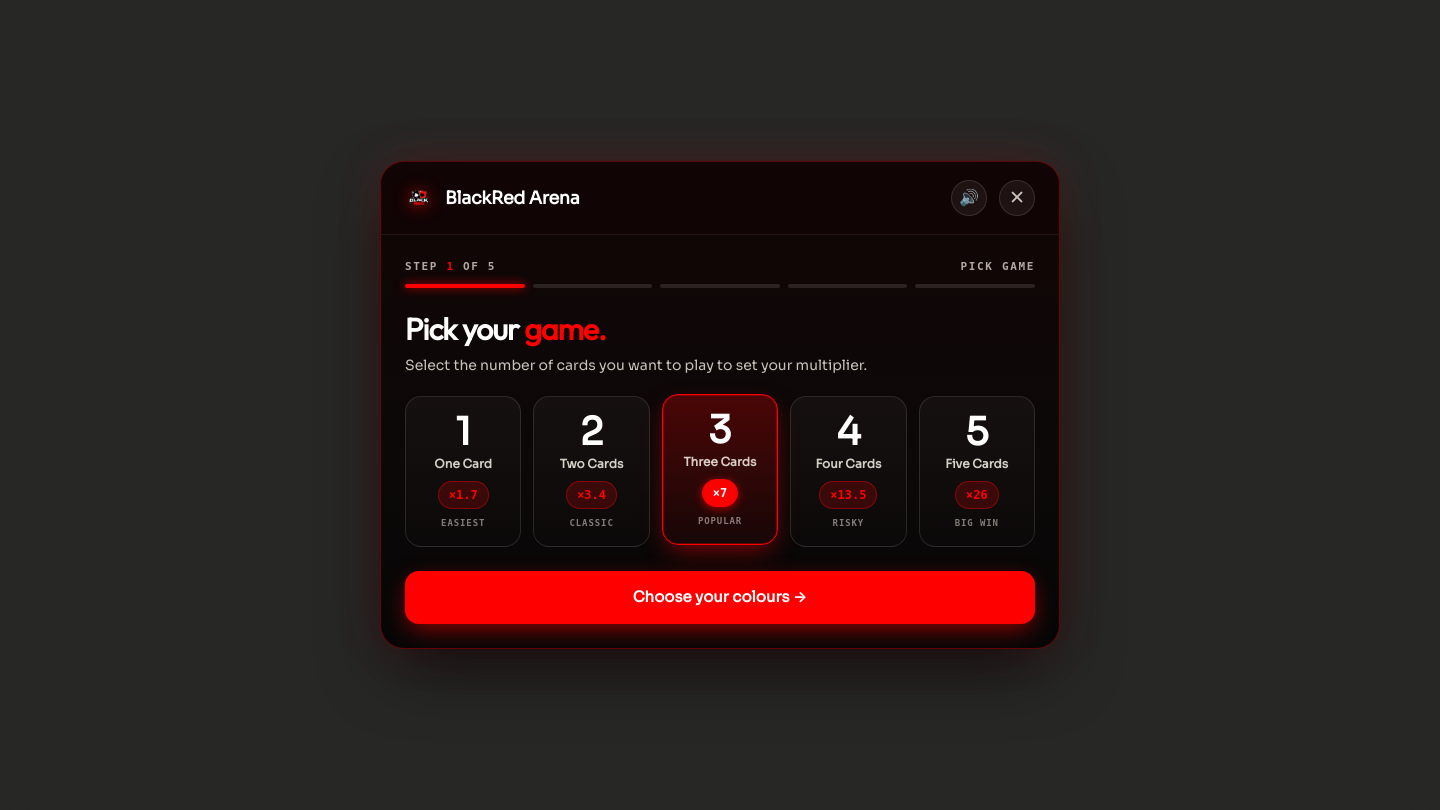
Test: BlackRedPlayModal › places a real ticket at Start the round and shows the settled result, never a client-computed one
The image size is (1440, 810).
Click the button "Choose your colours →" at (720, 597), box [405,571,1035,624]
(page scrolled)
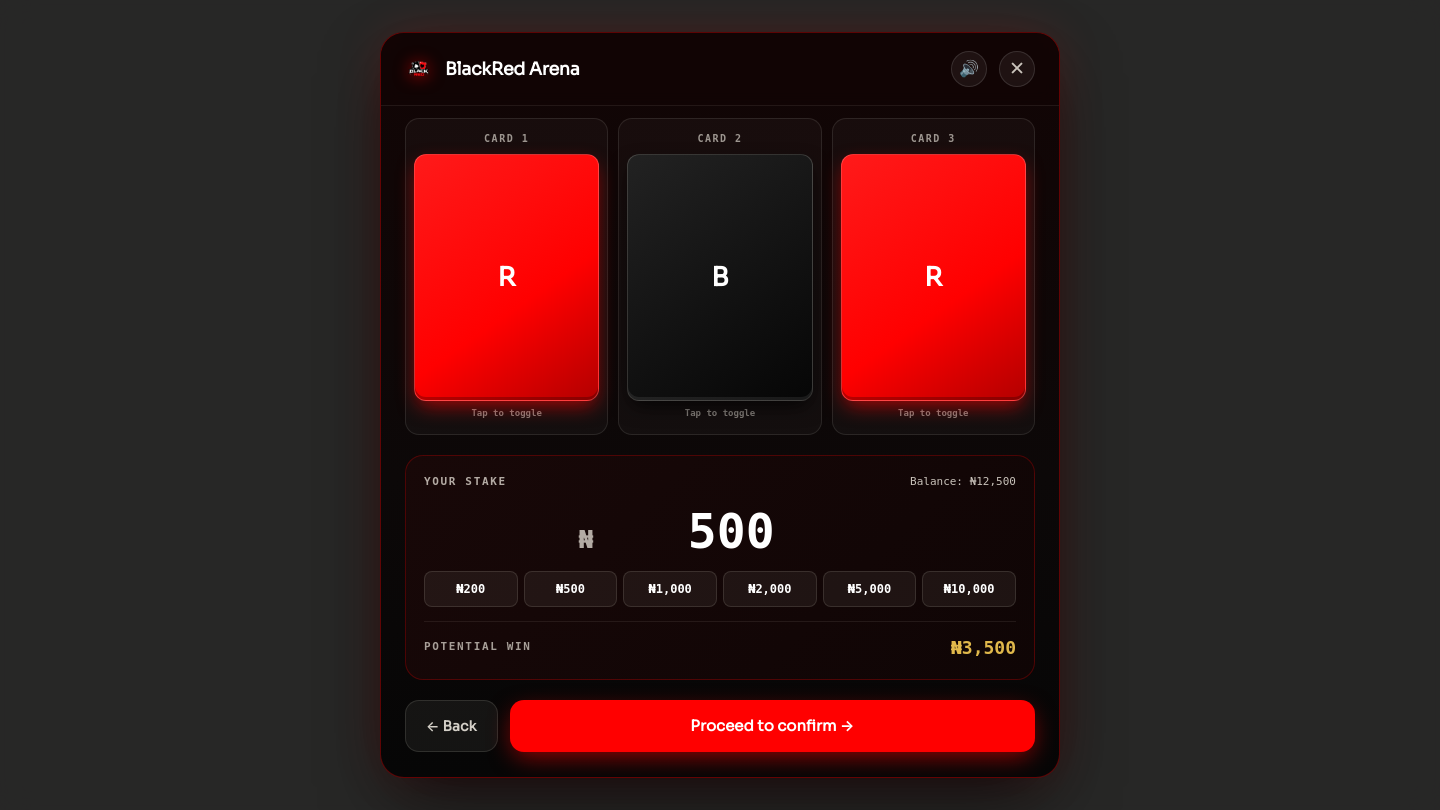
Click the button "Proceed to confirm →" at (772, 726), box [510,700,1035,752]
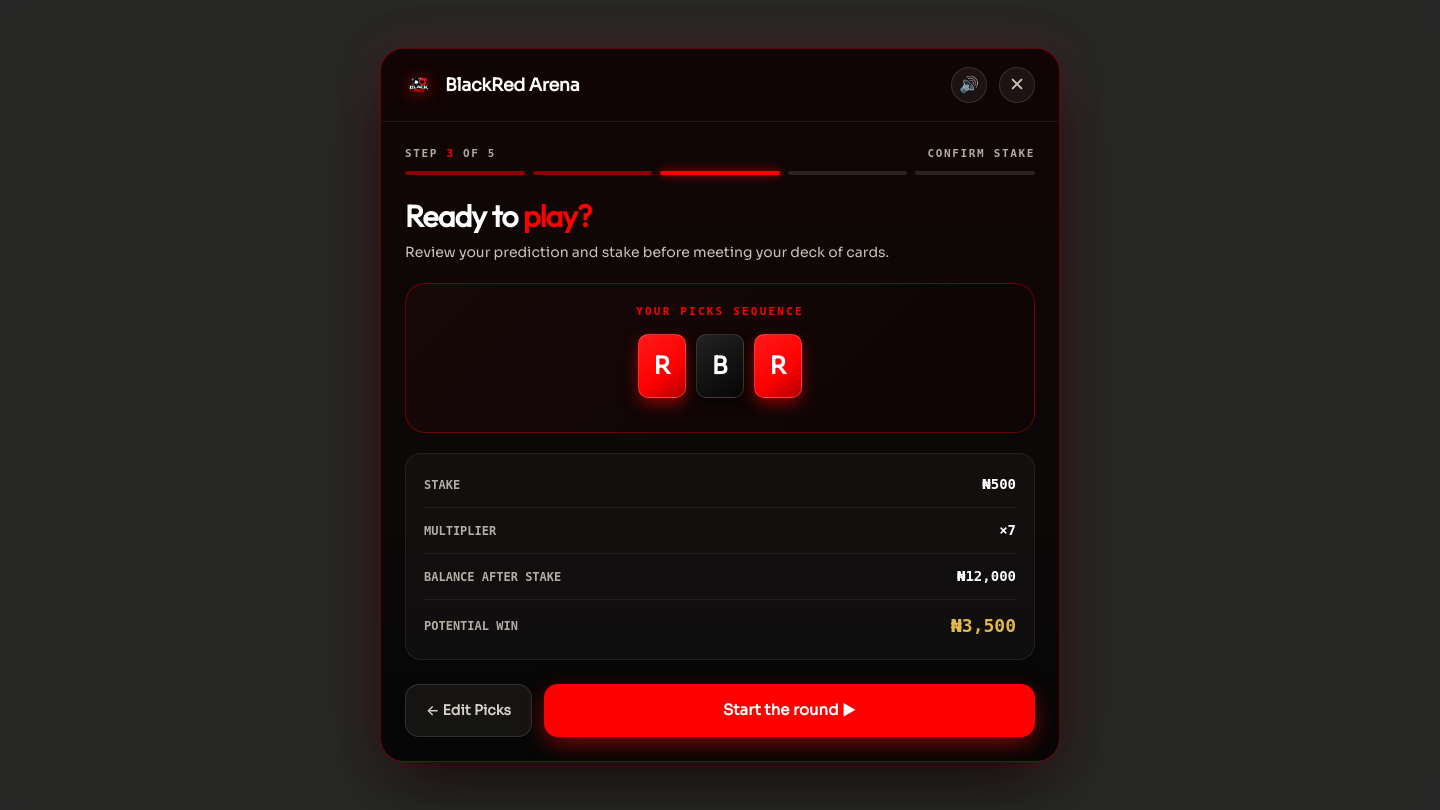
Click the button "Start the round ▶" at (790, 710), box [544,684,1035,737]
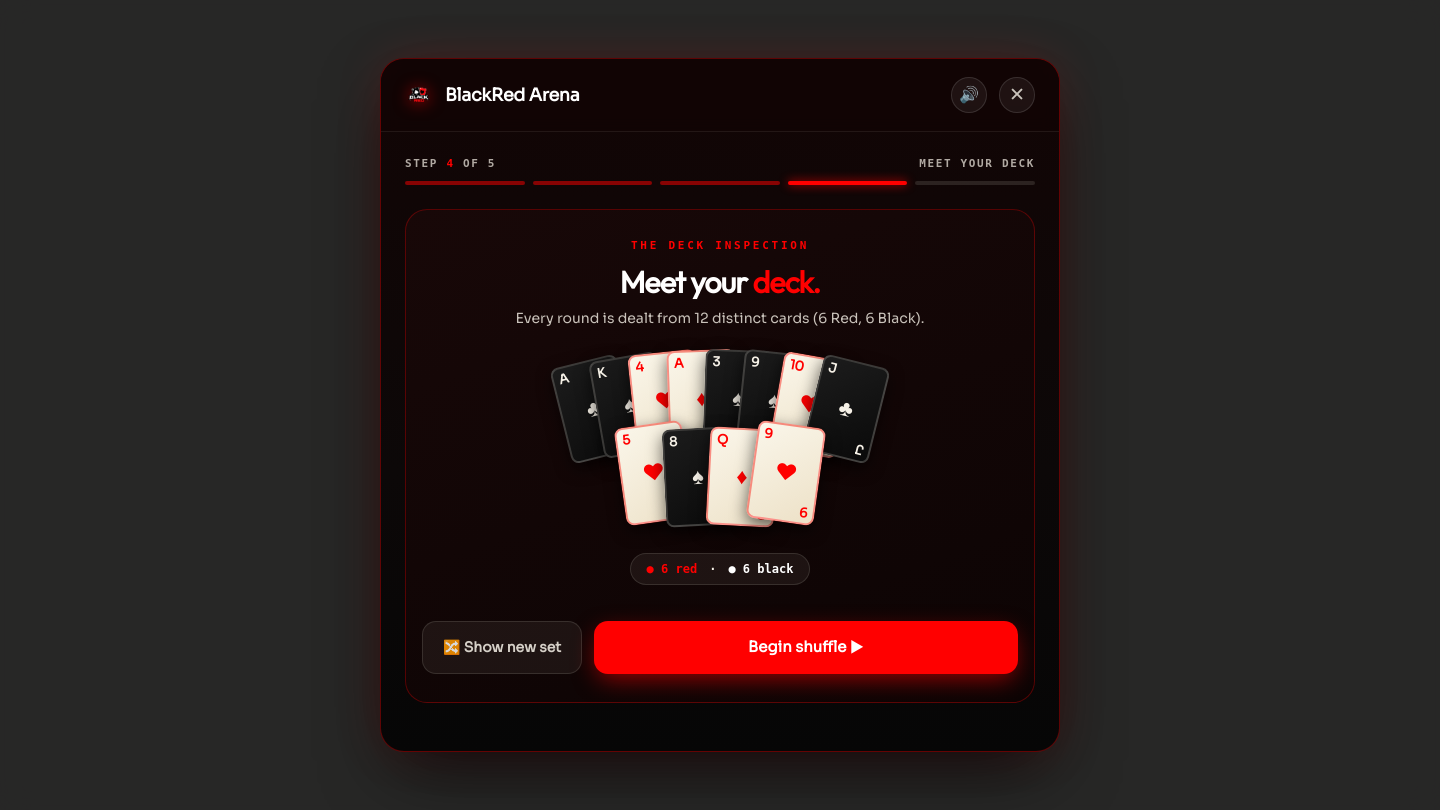
Check: the button "Begin shuffle ▶" is shown, box [594,622,1018,674]
